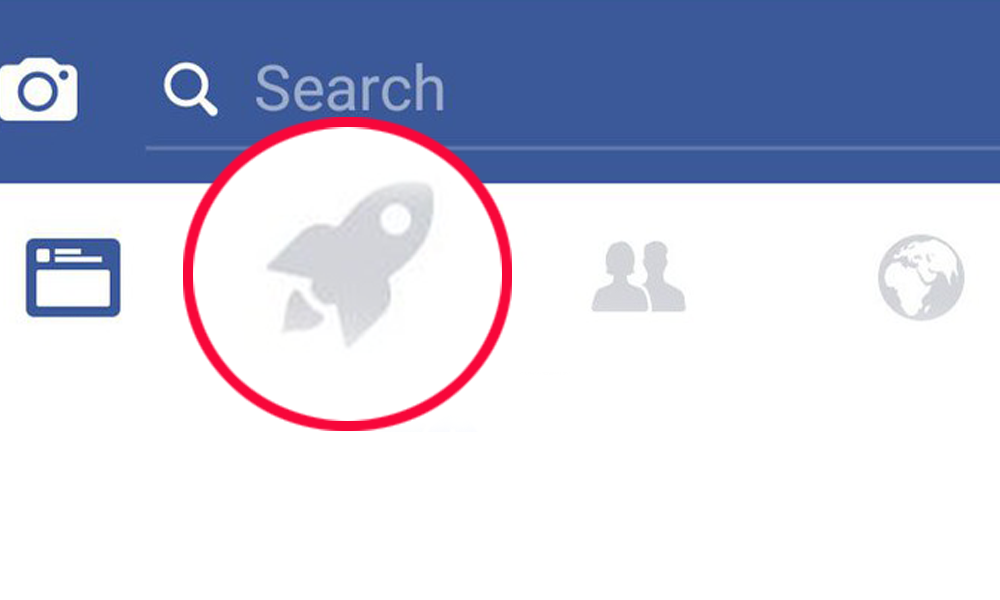searchIcon: (157, 54, 223, 120)
